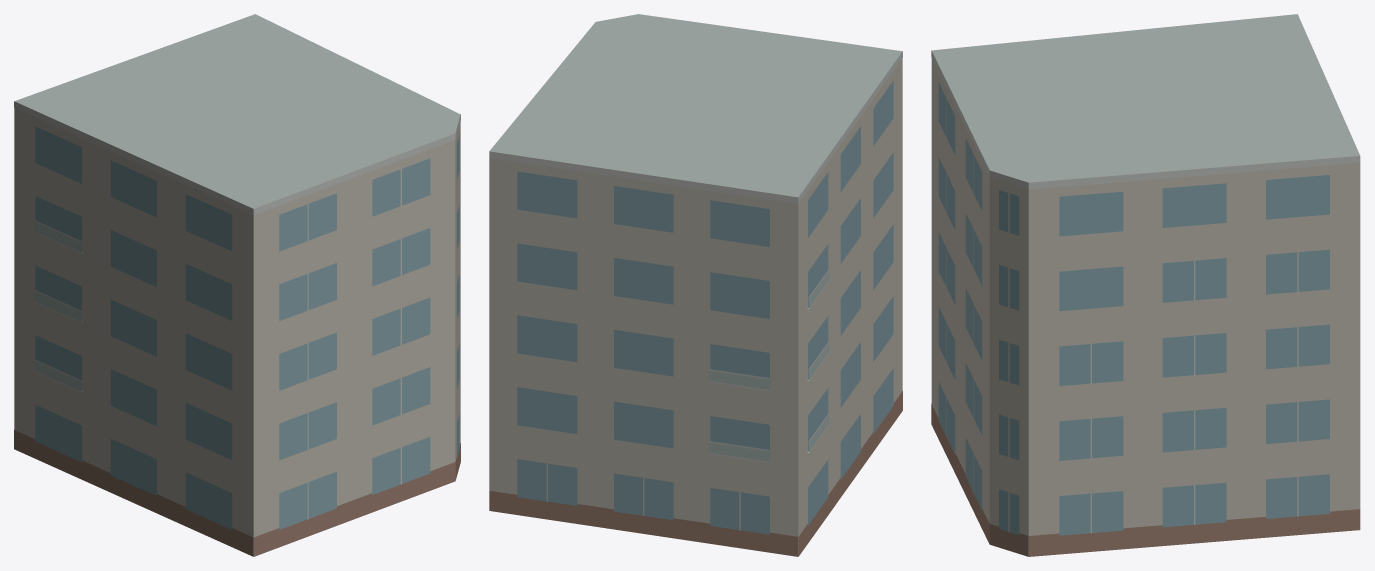
The model's file is survey-upis-32928822.glb.
3 views of the same model, side by side, from view 1: azimuth 30°, elevation 25°; view 2: azimuth 150°, elevation 25°; view 3: azimuth 270°, elevation 25° (orthographic). The views are drawn at different scales.
Parts seen in each view (by area): view 1: survey-upis-32928822.tmp; view 2: survey-upis-32928822.tmp; view 3: survey-upis-32928822.tmp.
Part boxes in pixels (x1,y1,x2,y2): survey-upis-32928822.tmp: [14, 14, 460, 556]; survey-upis-32928822.tmp: [489, 14, 902, 556]; survey-upis-32928822.tmp: [931, 14, 1360, 556].
Bounding box in the file's own units: 12.77 × 13.2 × 13.72.
